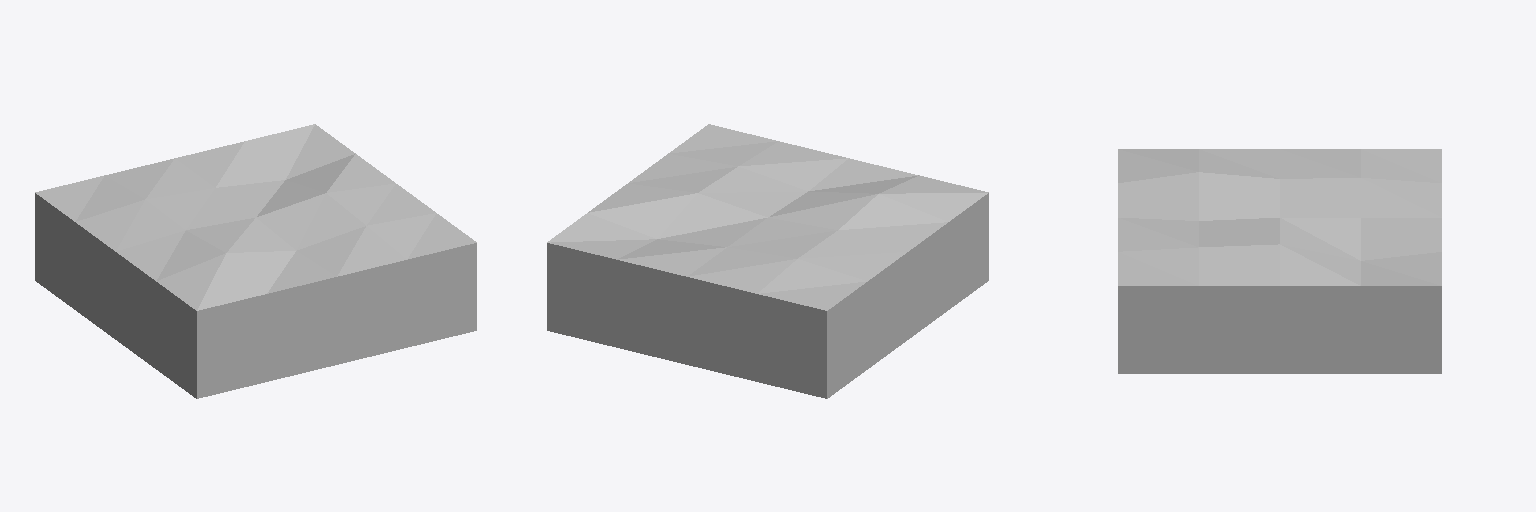
File: Snowtile_2.obj
3 renders of one model, left to right at view 1: azimuth 30°, elevation 25°; view 2: azimuth 150°, elevation 25°; view 3: azimuth 270°, elevation 25°, orthographic.
Parts seen in each view (by area): view 1: Cube; view 2: Cube; view 3: Cube.
Boxes of the visible parts, <box> form: Cube: <box>35,124,476,398</box>; Cube: <box>547,124,988,398</box>; Cube: <box>1118,149,1441,373</box>.
Size of the model in its own units: 2 by 0.6764 by 2.